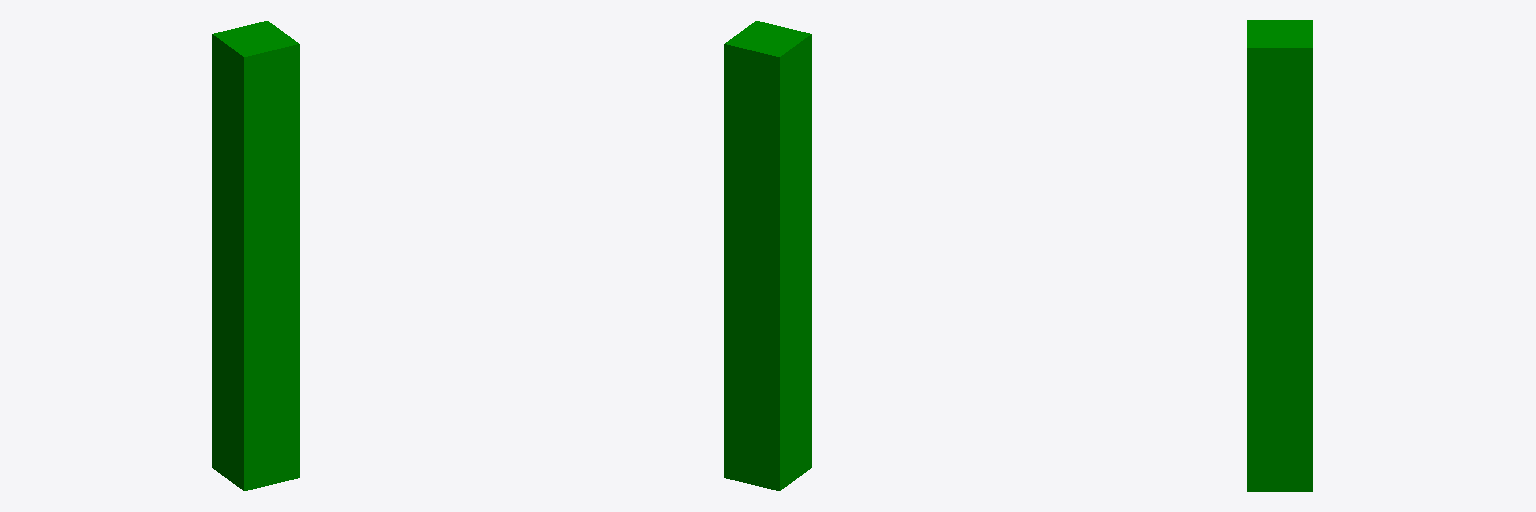
robot.urdf — tree_one:
<?xml version="1.0" ?>
<robot name="tree_one">
    <link name="block">
    <inertial>
      <origin xyz="0 0 0" rpy="0 0 0"/>
      <mass value="0.0"/>
      <inertia ixx="1" ixy="0" ixz="0" iyy="1" iyz="0" izz="1"/>
    </inertial>
    <!-- Visual representation of the cube (0.3m x 0.3m x 0.3m) -->
    <visual>
      <origin xyz="0 0 0" rpy="0 0 0"/>
      <geometry>
        <box size="0.4 0.4 3.0"/>
      </geometry>
      <material name="green">
        <color rgba="0 0.6 0 1"/>
      </material>
    </visual>
    <!-- Collision representation of the cube (0.3m x 0.3m x 0.3m) -->
    <collision>
      <origin xyz="0 0 0" rpy="0 0 0"/>
      <geometry>
        <box size="0.4 0.4 3.0"/>
      </geometry>
    </collision>    
    <!-- Contact properties (optional, e.g., friction) --> 
    <contact>
      <lateral_friction value="1.0"/>
      <rolling_friction value="0.0"/>
      <restitution value="0.0"/>
    </contact>
  </link>
</robot>  

--- Render facts (derived) ---
The picture shows the robot from 3 angles, left to right: view 1: azimuth 30°, elevation 25°; view 2: azimuth 150°, elevation 25°; view 3: azimuth 270°, elevation 25°; orthographic projection.
Model tree_one with 1 links and 0 joints (none), rooted at block, posed all joints at 0.
Links seen in each view (by area): view 1: block; view 2: block; view 3: block.
Boxes of the visible links, x1,y1,x2,y2 form: block: (212, 21, 299, 490); block: (724, 21, 811, 490); block: (1247, 20, 1312, 491).
Bounding box of the posed robot: 0.4 × 0.4 × 3 m (x, y, z).
Geometry: primitives only (box / cylinder / sphere), no mesh files.